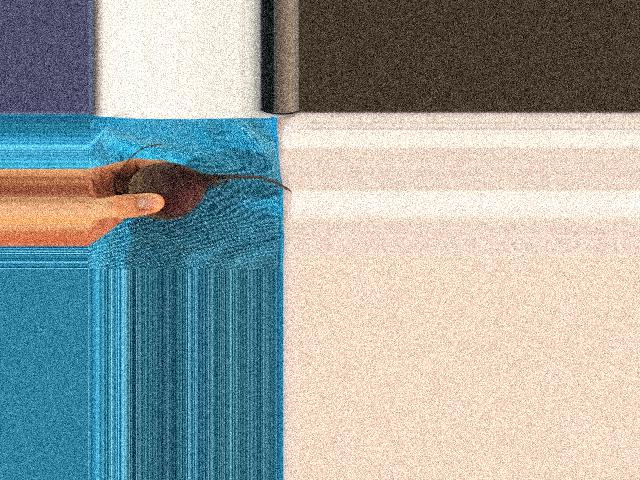beet: (114, 145, 292, 220)
